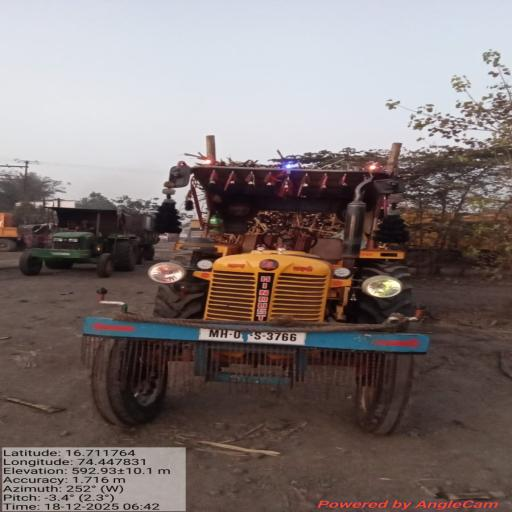number_plate: (247, 332, 306, 345)
